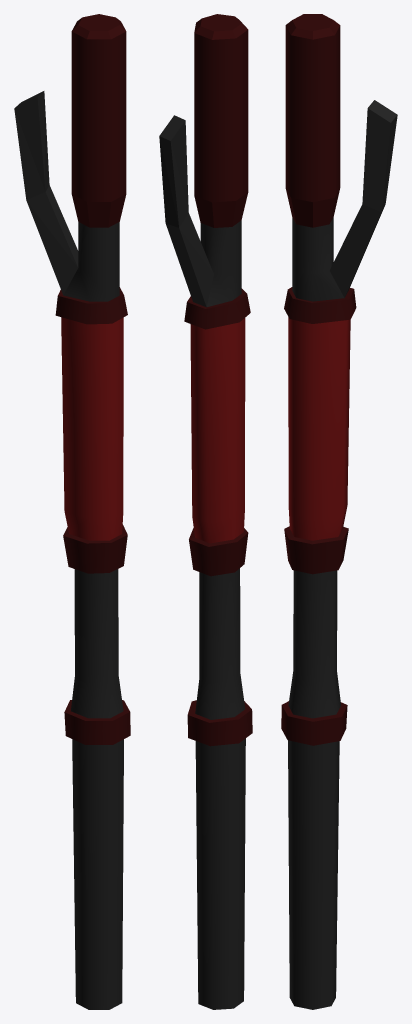
File: levier_train_manche.FBX
3 renders of one model, left to right at view 1: azimuth 90°, elevation 25°; view 2: azimuth 150°, elevation 25°; view 3: azimuth 270°, elevation 25°, orthographic.
Visible parts, largest first — view 1: Levier_train; view 2: Levier_train; view 3: Levier_train.
Boxes of the visible parts, x1,y1,x2,y2 form: Levier_train: (14,14,130,1009); Levier_train: (159,14,252,1009); Levier_train: (281,14,397,1009).
Size of the model in its own units: 3.51 by 60.06 by 6.48.
